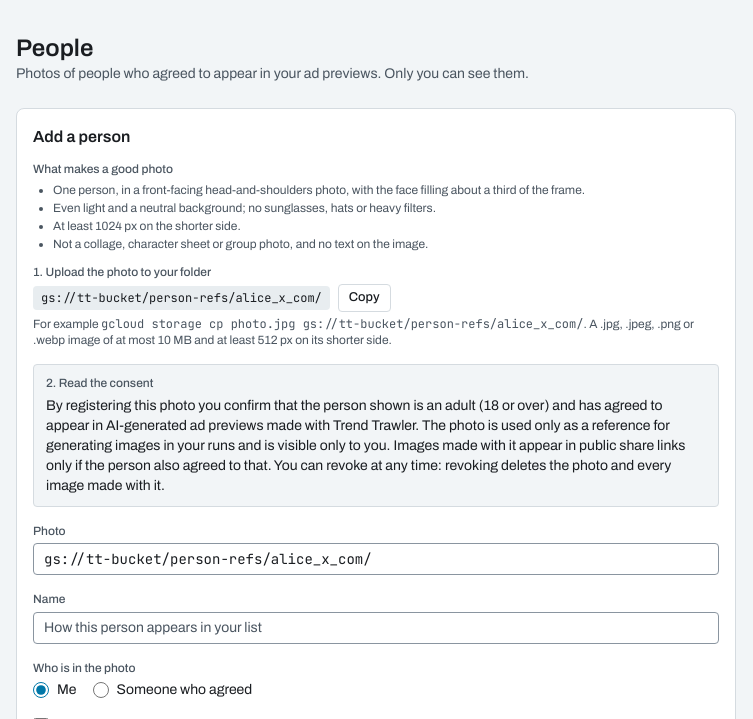
Scenario: PeoplePage › shows a friendly error when registration is refused
Replace the text in the field labelled "Photo" with "gs://x/y.jpg" at (376, 559), box [33,543,719,575]
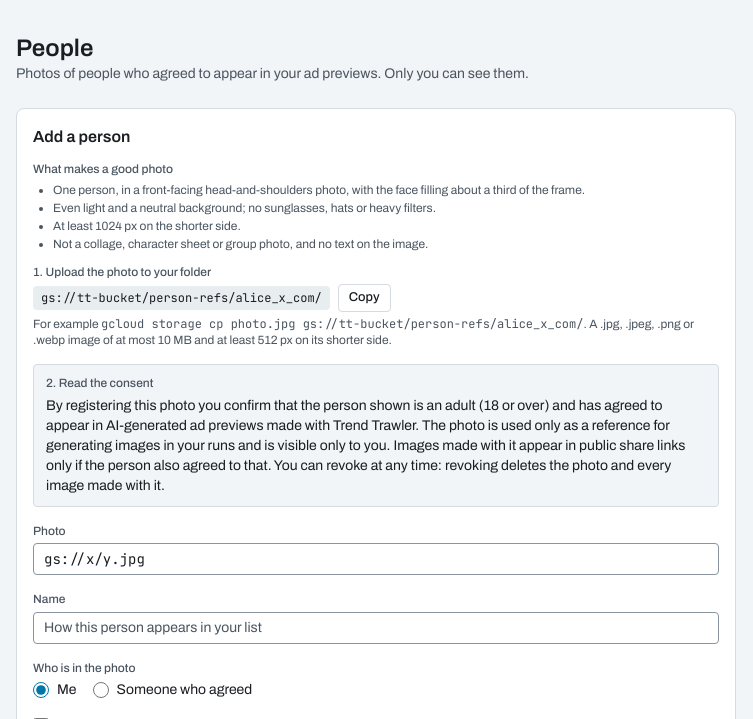
Type "X" into the field labelled "Name".
click(376, 628); type("X")  # box [33,612,719,644]
(page scrolled)
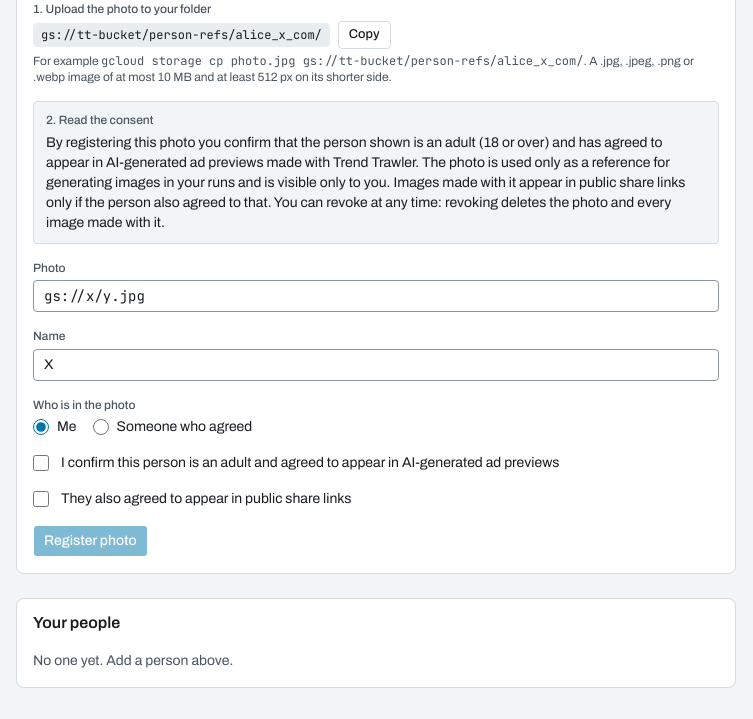
Click the checkbox labelled "is an adult and agreed to appear".
click(41, 463)  # box [33,455,49,471]
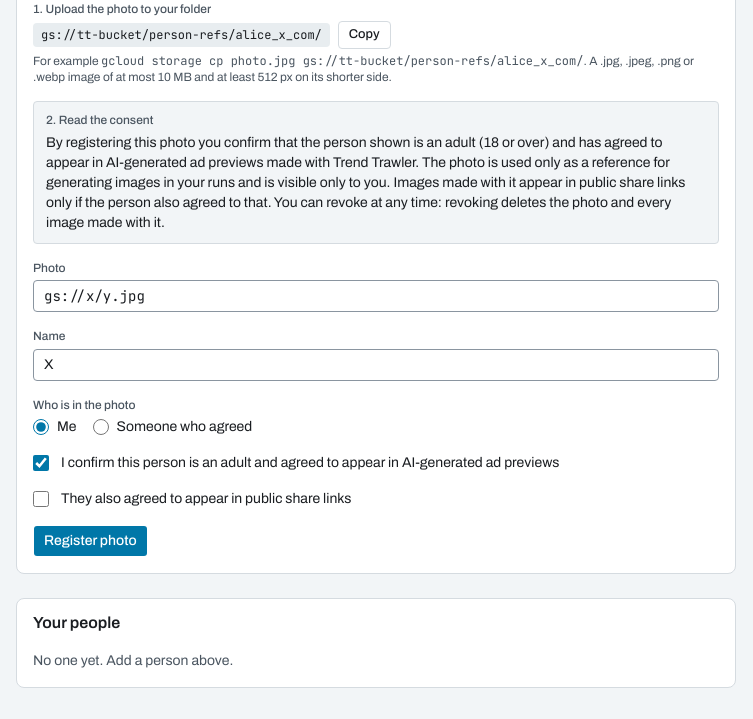
Click the button "Register photo".
click(90, 541)  # box [33,525,148,557]
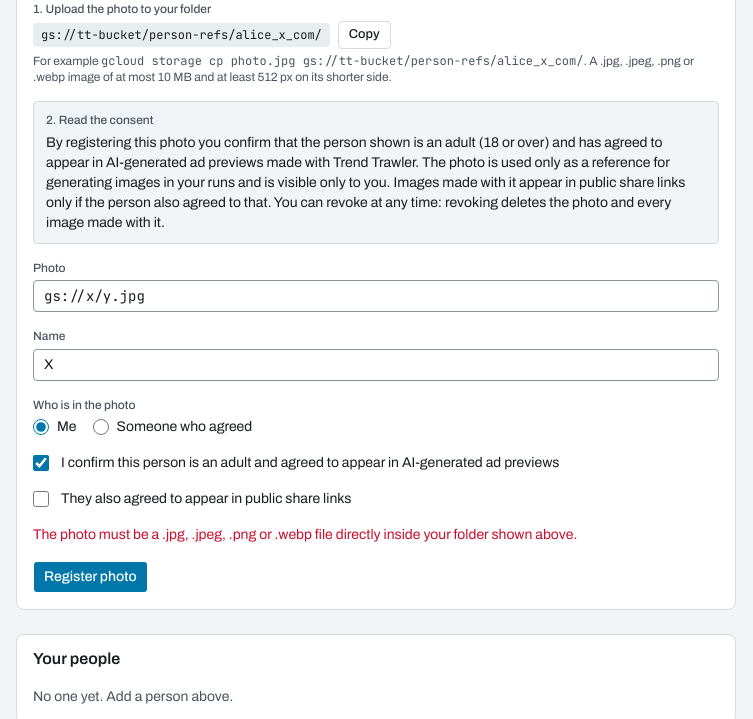
Now the message shows "directly inside your folder", box [33,527,577,542]
